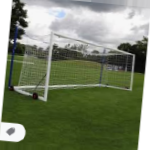goals: (12, 30, 136, 107)
